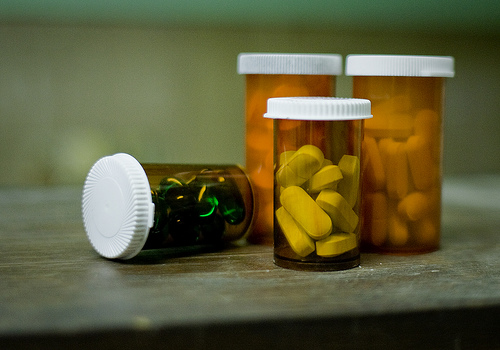pill bottle: (349, 53, 453, 258), (237, 52, 343, 240), (82, 153, 254, 264), (266, 94, 371, 275)
